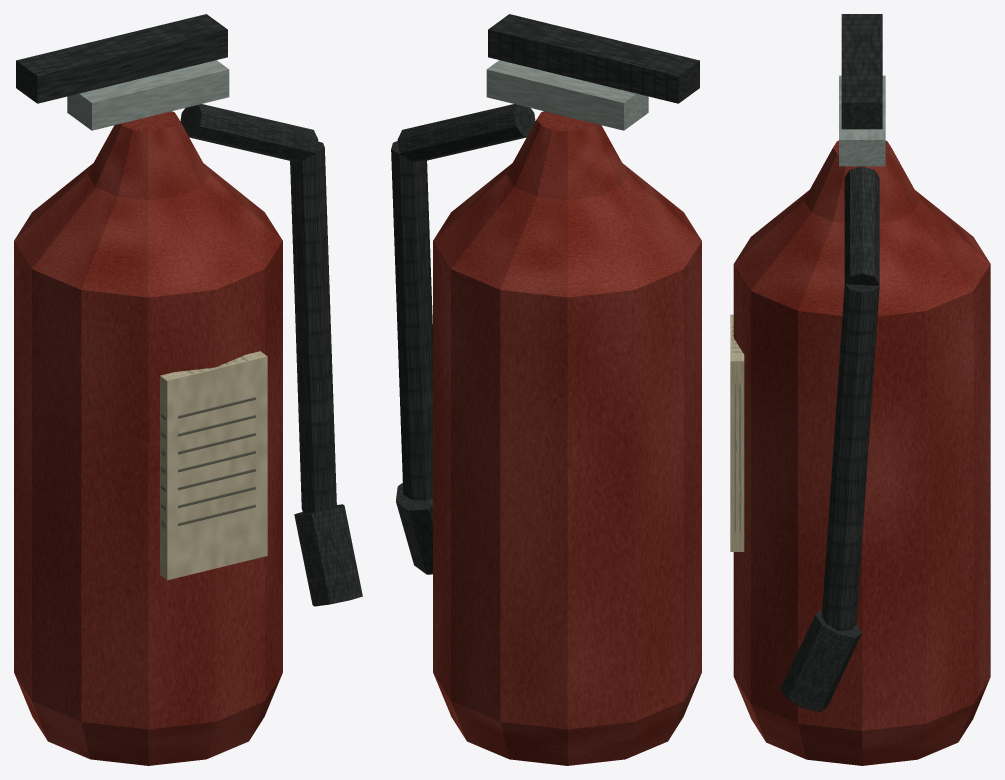
File: FireExtinguisher.obj
The picture shows the model from 3 angles, left to right: view 1: azimuth 30°, elevation 25°; view 2: azimuth 150°, elevation 25°; view 3: azimuth 270°, elevation 25°; orthographic projection. The views are drawn at different scales.
Visible parts, largest first — view 1: FireExtinguisher; view 2: FireExtinguisher; view 3: FireExtinguisher.
Boxes of the visible parts, x1,y1,x2,y2 form: FireExtinguisher: (14, 14, 362, 765); FireExtinguisher: (391, 14, 701, 765); FireExtinguisher: (730, 14, 990, 765).
Bounding box in the file's own units: 0.287 × 0.6125 × 0.223.
Materials: 4 (4 with a texture image).
